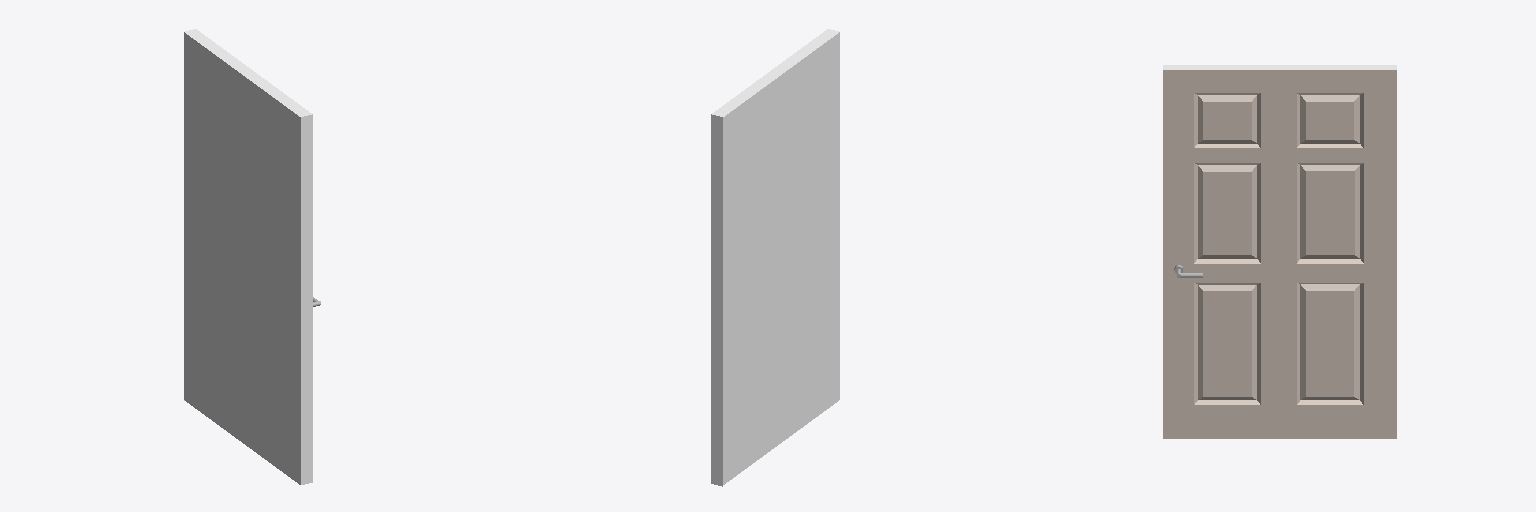
The model's file is door.obj.
The picture shows the model from 3 angles: view 1: azimuth 30°, elevation 25°; view 2: azimuth 150°, elevation 25°; view 3: azimuth 270°, elevation 25°; orthographic projection.
Parts seen in each view (by area): view 1: Mesh1 Model; view 2: Mesh1 Model; view 3: Mesh1 Model.
Boxes of the visible parts, box(x1,y1,x2,y2) form: Mesh1 Model: box(184, 29, 320, 484); Mesh1 Model: box(711, 29, 839, 486); Mesh1 Model: box(1163, 65, 1396, 438).
Bounding box in the file's own units: 6.75 × 86.25 × 49.45.